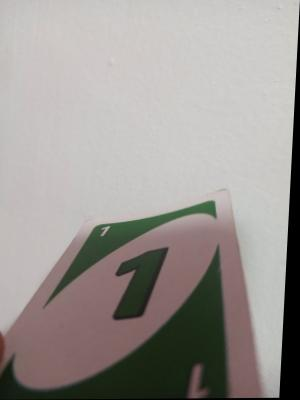green: (93, 223, 120, 248)
num_1: (112, 242, 187, 344), (169, 357, 231, 399)
